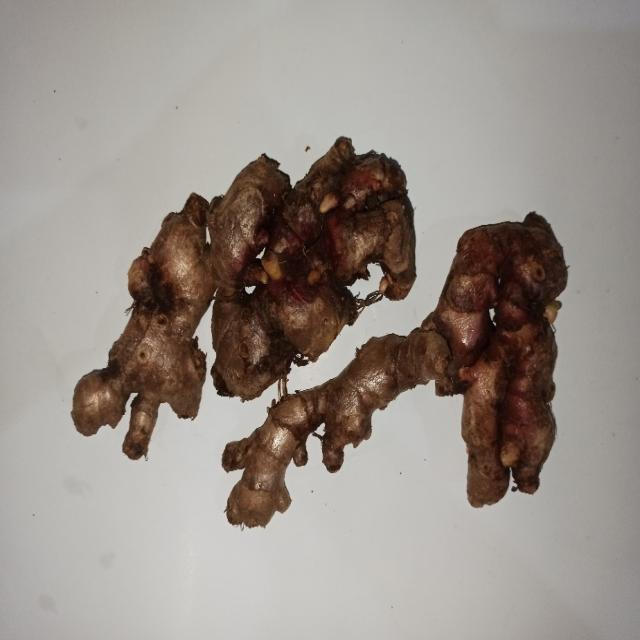ginger: (228, 220, 564, 529), (78, 148, 414, 456)
